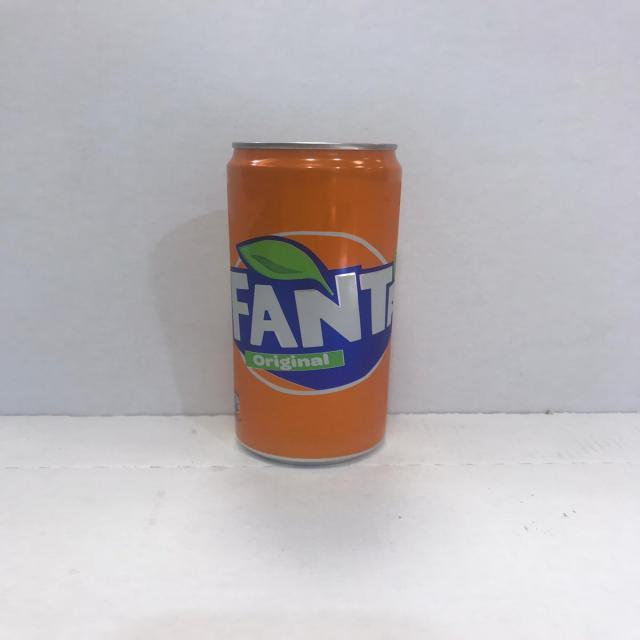Fanta: (222, 135, 408, 471)
